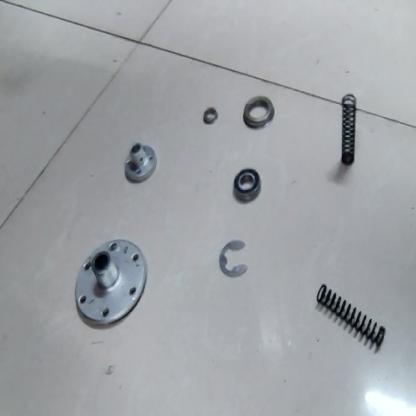FOD: (72, 234, 148, 330), (312, 279, 390, 354), (336, 90, 361, 169), (121, 139, 160, 185), (217, 235, 250, 280), (241, 92, 276, 132), (231, 164, 264, 202), (199, 104, 219, 128)
